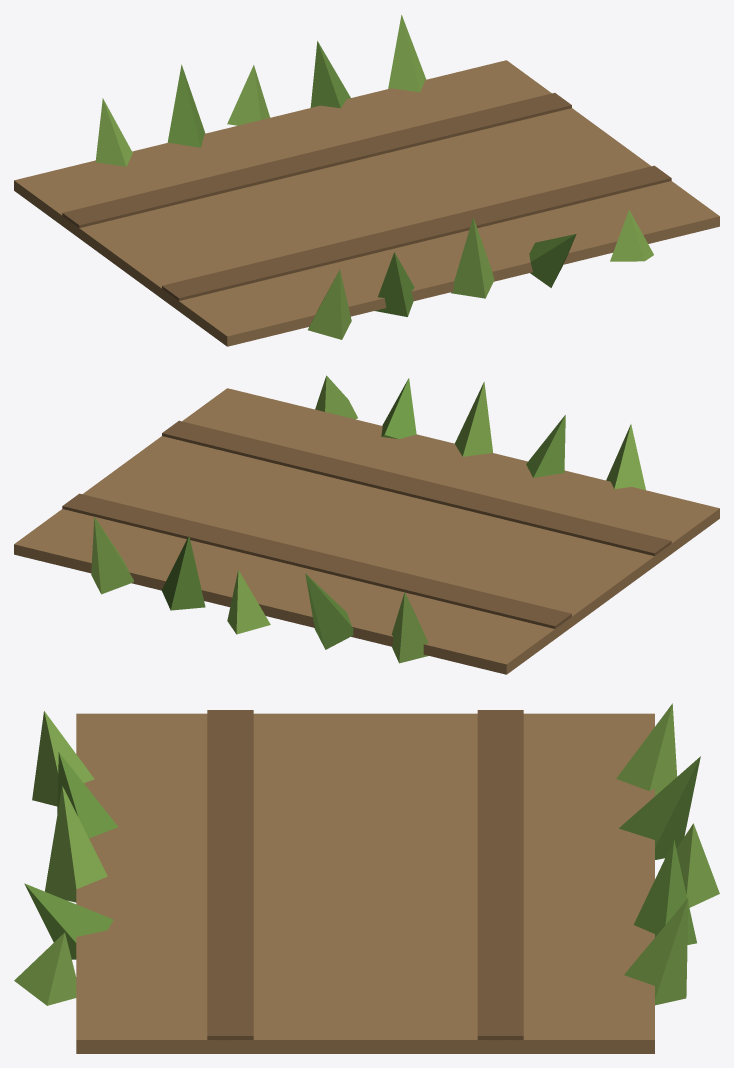
Rendered from road_dirt_straight.glb.
The picture shows the model from 3 angles, top to bottom: view 1: azimuth 30°, elevation 25°; view 2: azimuth 150°, elevation 25°; view 3: azimuth 270°, elevation 25°; orthographic projection. The views are drawn at different scales.
Parts seen in each view (by area): view 1: street_dirt_straight; view 2: street_dirt_straight; view 3: street_dirt_straight.
Boxes of the visible parts, left/top/right/bottom form: street_dirt_straight: left=14, top=15, right=719, bottom=346; street_dirt_straight: left=14, top=375, right=719, bottom=674; street_dirt_straight: left=14, top=703, right=719, bottom=1053.
Bounding box in the file's own units: 2 × 0.3513 × 1.83.
